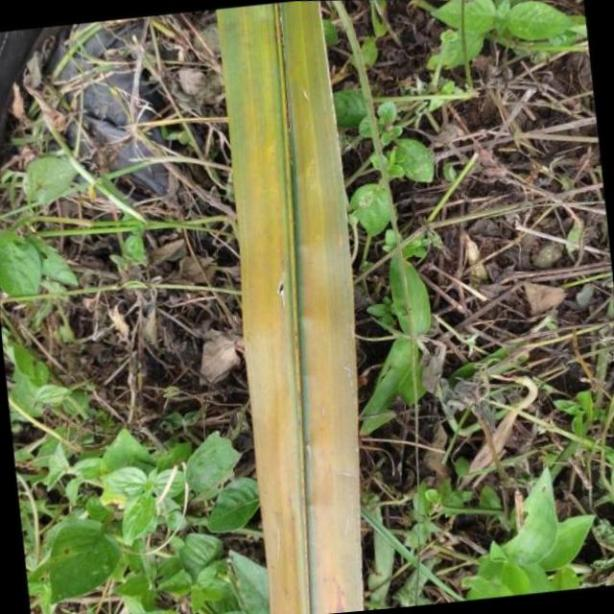Megnesium: (218, 0, 364, 614)
